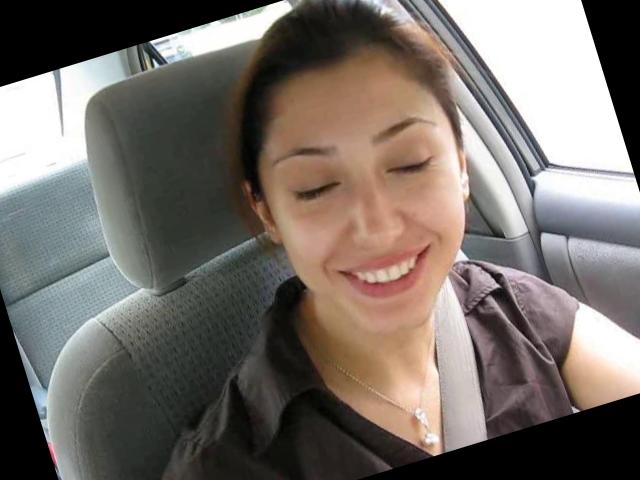eye_closed: (284, 163, 352, 216), (378, 142, 449, 192)
face: (248, 84, 508, 364)
